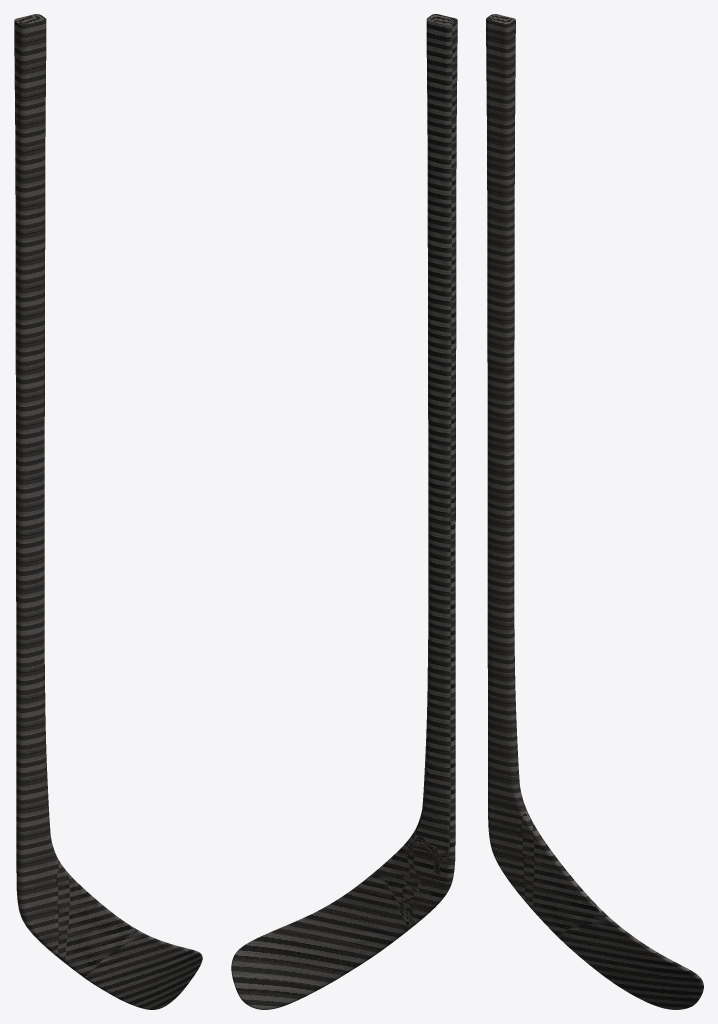
Rendered from P8TM-SBO.glb.
The picture shows the model from 3 angles, left to right: view 1: azimuth 30°, elevation 25°; view 2: azimuth 150°, elevation 25°; view 3: azimuth 330°, elevation 25°; orthographic projection. The views are drawn at different scales.
Parts seen in each view (by area): view 1: geometry_0; view 2: geometry_0; view 3: geometry_0.
Boxes of the visible parts, <box> form: geometry_0: <box>14,14,202,1009</box>; geometry_0: <box>231,14,457,1009</box>; geometry_0: <box>486,14,703,1009</box>.
Size of the model in its own units: 237 by 1143 by 68.66.
1 material, 1 textured.
